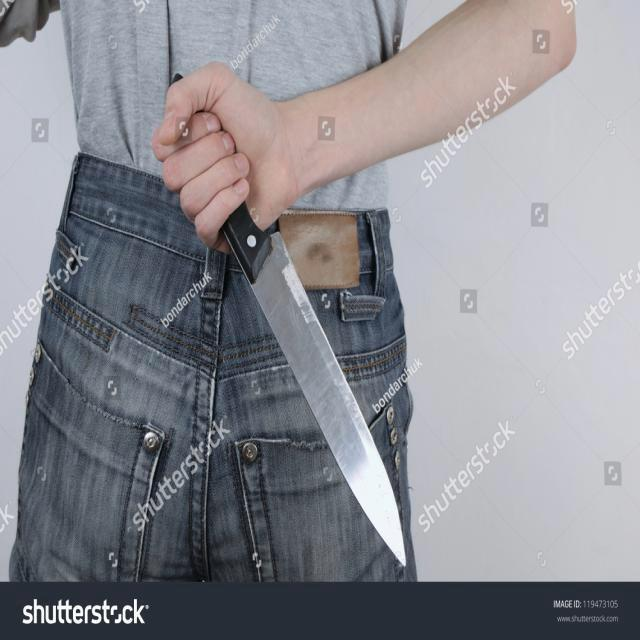Knife: (222, 204, 405, 564)
Knife_Handle: (148, 57, 422, 580)
